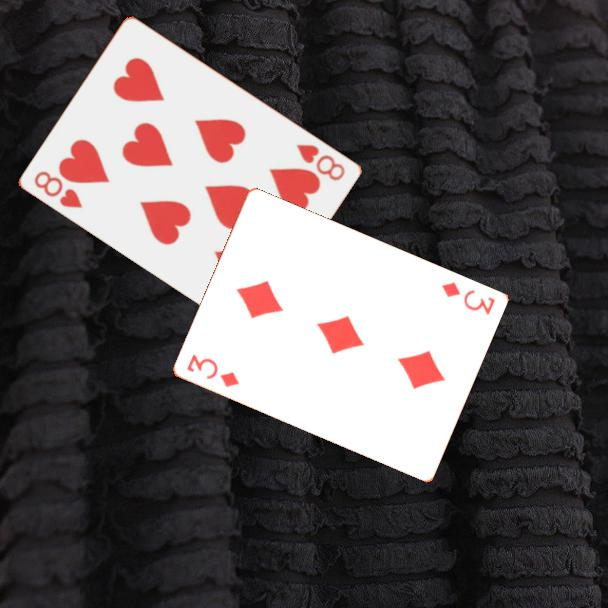d03: (183, 350, 242, 391), (437, 278, 497, 318)
h08: (293, 140, 348, 184), (31, 167, 86, 211)
